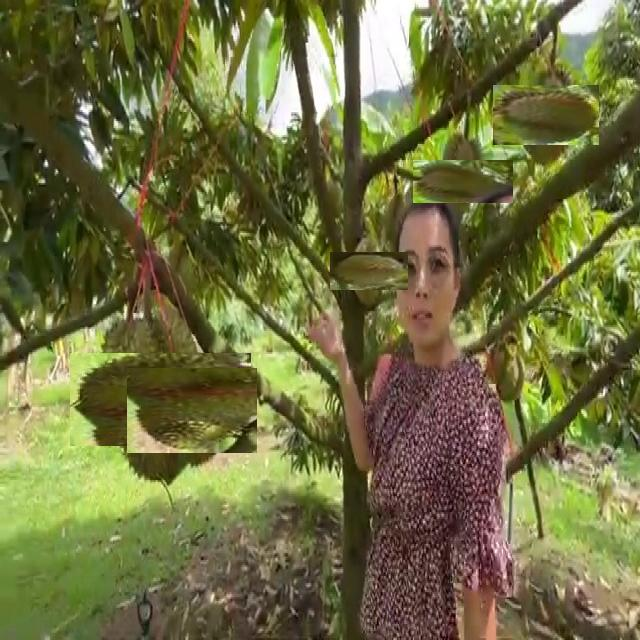durian: (92, 331, 229, 468), (138, 357, 245, 464), (505, 73, 588, 157), (427, 145, 499, 217), (339, 242, 398, 301)
